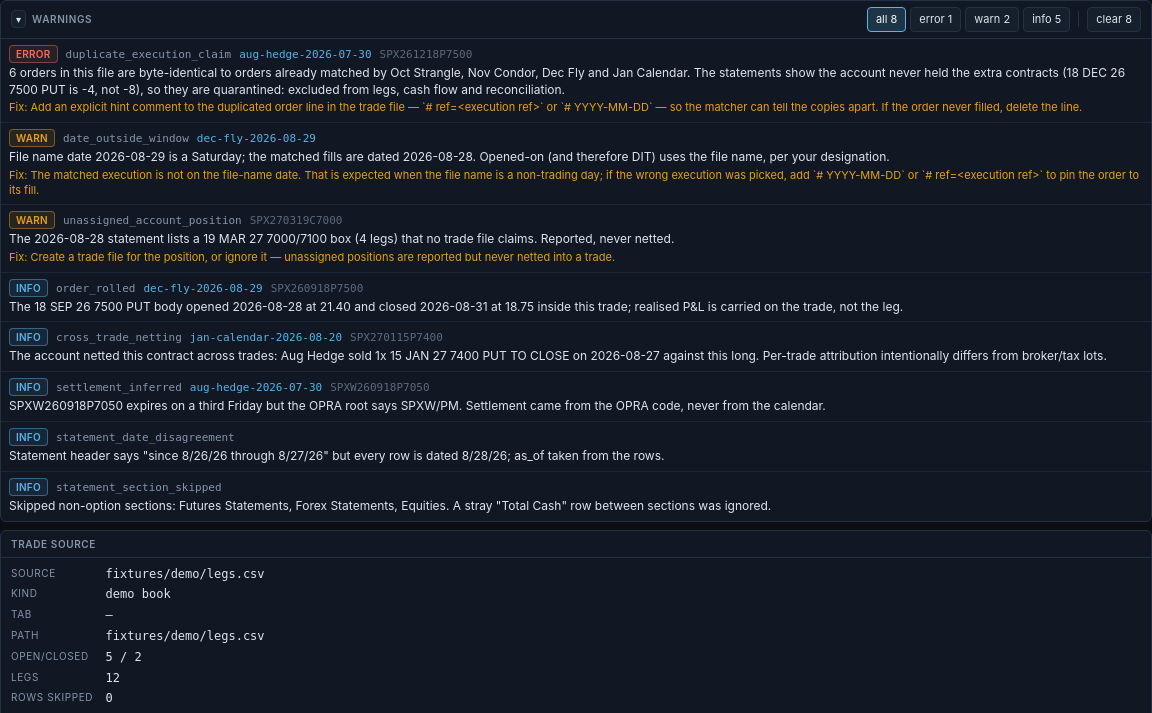
Test case: DataHealth › folds the warnings card down to its header and remembers it
The image size is (1152, 713).
Expected: the text "duplicate_execution_claim" is shown, [66,47,231,62]
Click the button named "Collapse Warnings": click(18, 19) [11,10,26,28]
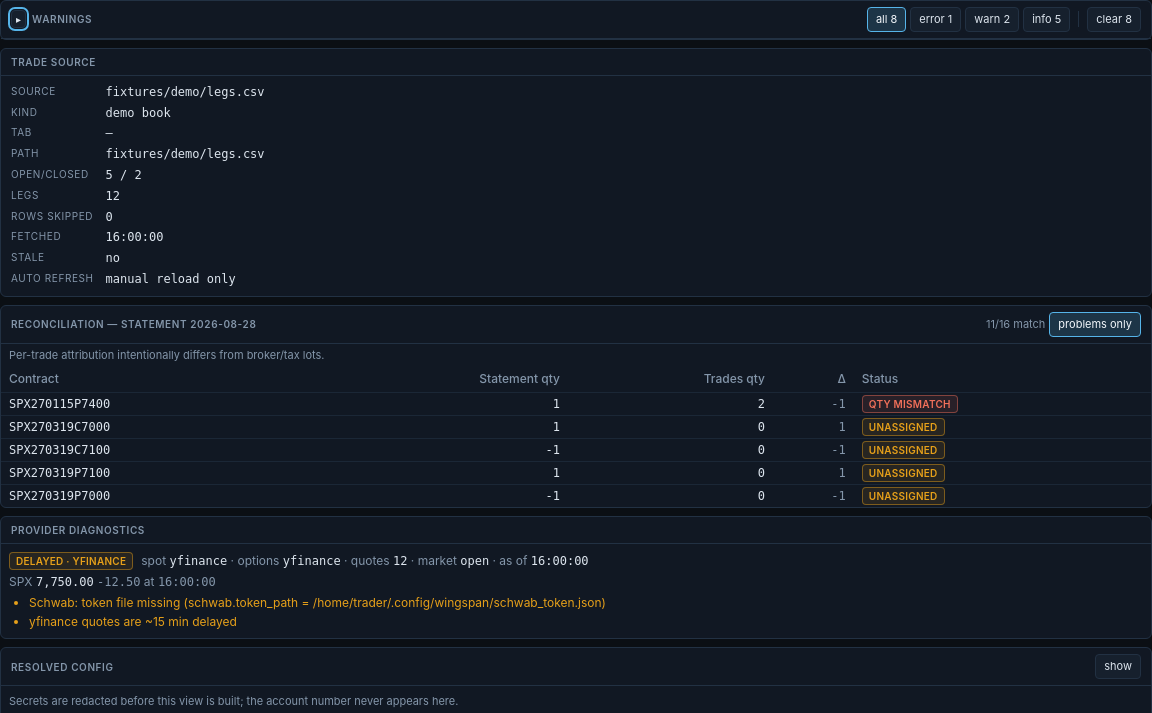
Expected: the heading "Warnings" is shown, [32,12,92,26]
Expected: the text "duplicate_execution_claim" is gone
Click the button named "Expand Warnings": click(18, 19) [11,10,26,28]
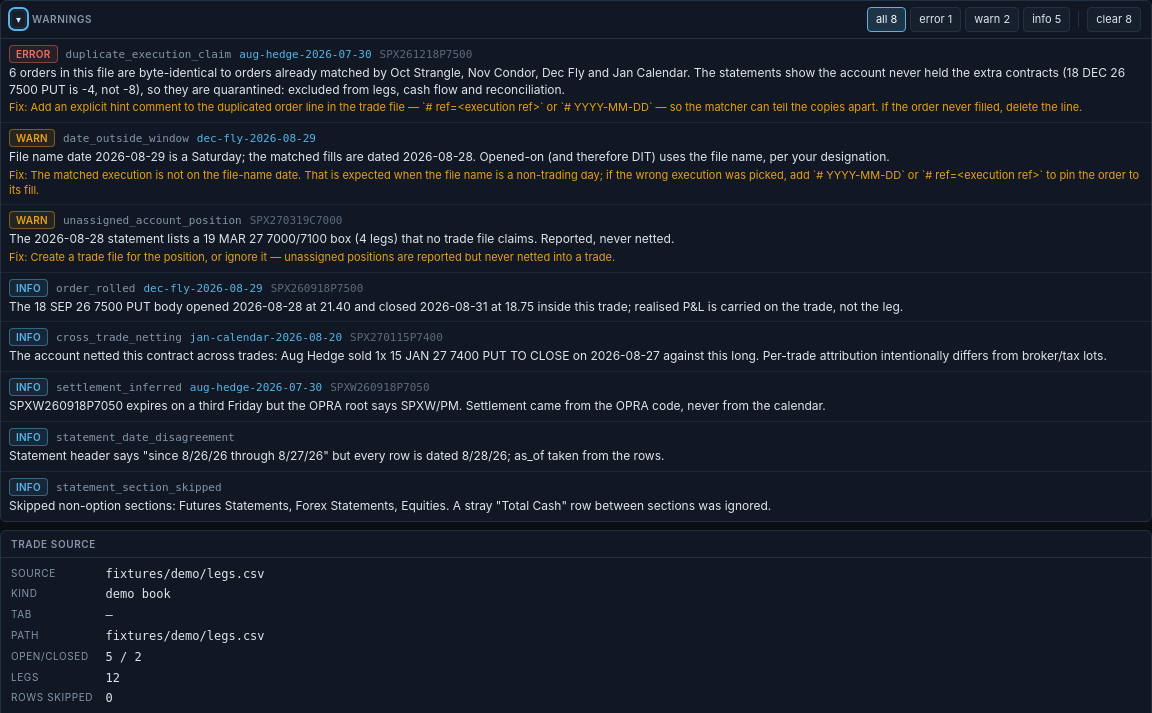
Expected: the text "duplicate_execution_claim" is shown, [66,47,231,62]
